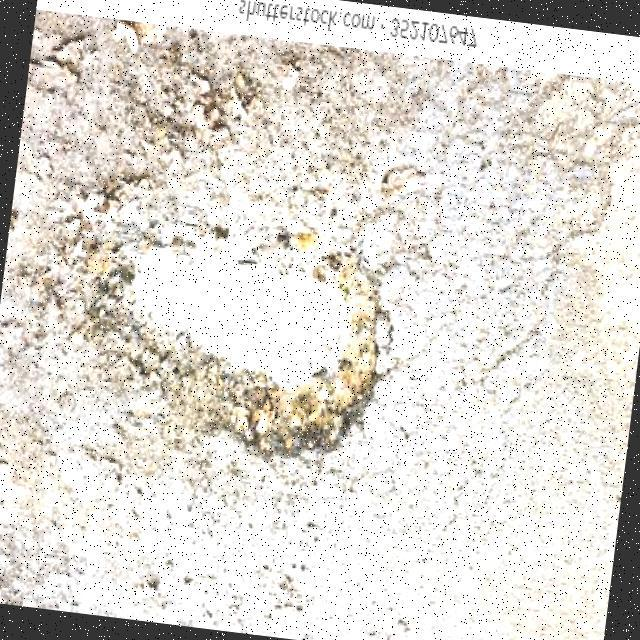Pothole: (111, 222, 381, 457)
